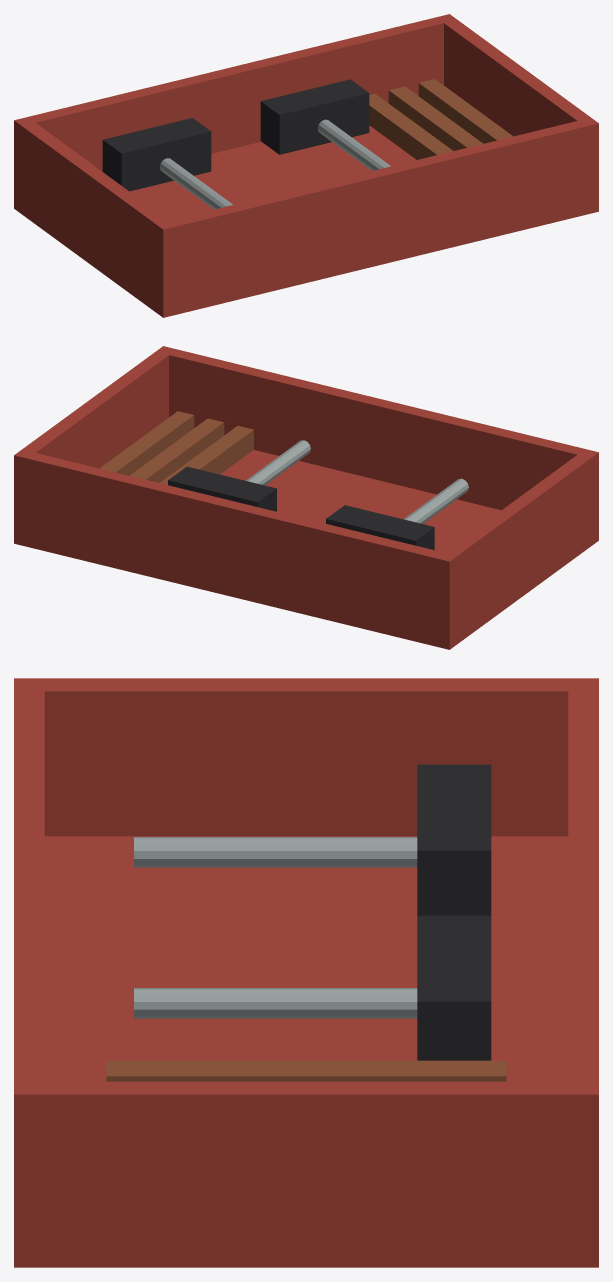
File: SUP_PlugKit.glb
3 views of the same model, one above another, from view 1: azimuth 30°, elevation 25°; view 2: azimuth 150°, elevation 25°; view 3: azimuth 270°, elevation 25° (orthographic). The views are drawn at different scales.
Parts seen in each view (by area): view 1: PatchCase, Grips, Plugs, Reamers; view 2: PatchCase, Plugs, Grips, Reamers; view 3: PatchCase, Grips, Reamers, Plugs.
Part boxes in pixels (bbox=[...]): PatchCase: bbox=[14, 14, 598, 317]; Grips: bbox=[102, 79, 369, 191]; Plugs: bbox=[369, 79, 513, 159]; Reamers: bbox=[160, 119, 390, 209]; PatchCase: bbox=[14, 346, 598, 649]; Plugs: bbox=[99, 411, 253, 484]; Grips: bbox=[168, 466, 434, 550]; Reamers: bbox=[246, 440, 468, 523]; PatchCase: bbox=[14, 678, 598, 1267]; Grips: bbox=[417, 764, 491, 1060]; Reamers: bbox=[134, 837, 417, 1018]; Plugs: bbox=[106, 1060, 506, 1081].
Size of the model in its own units: 0.16 by 0.031 by 0.095.
